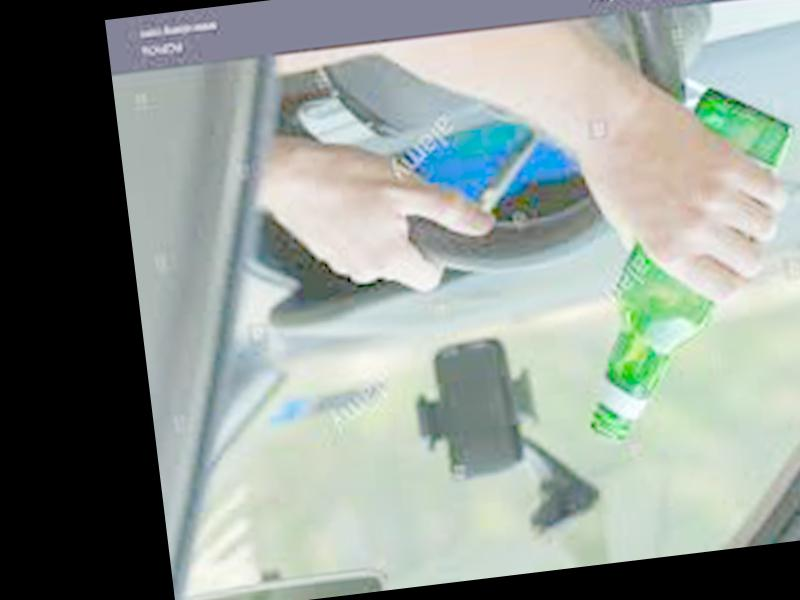Beer: (554, 76, 800, 439)
